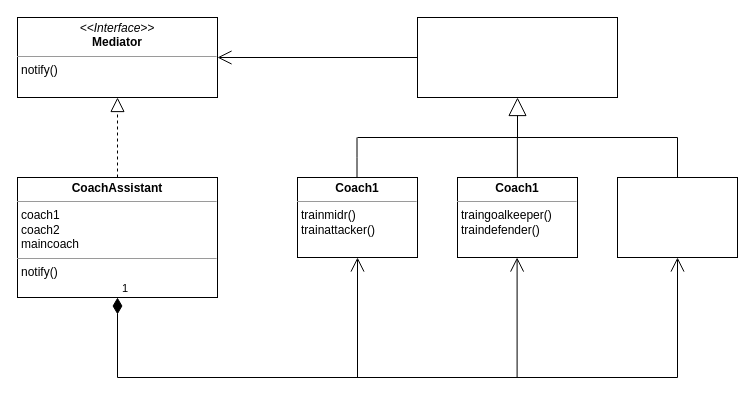
Image size: 755x412. Some labels were removed from this diagram. Each missing label, with the centre of its shape:
BaseComponent mediator setMediator(): (517,57)
MainCoach trainteam() traindefenders() trainattackers(): (677,217)
